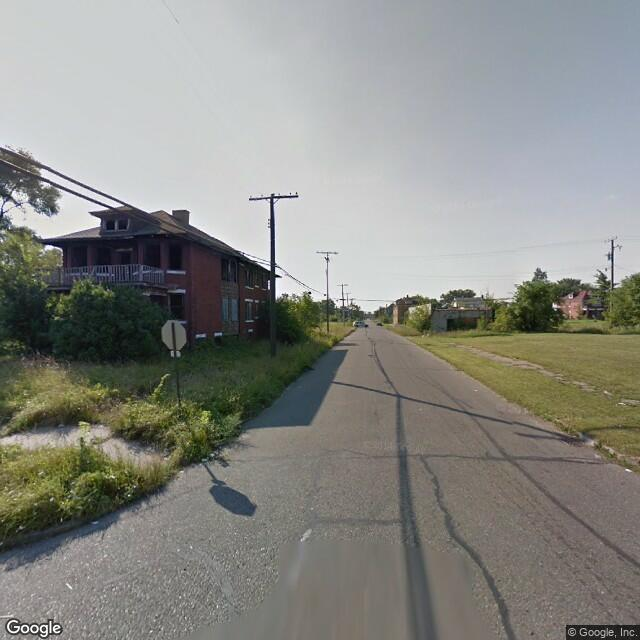litter: (618, 464, 638, 478)
